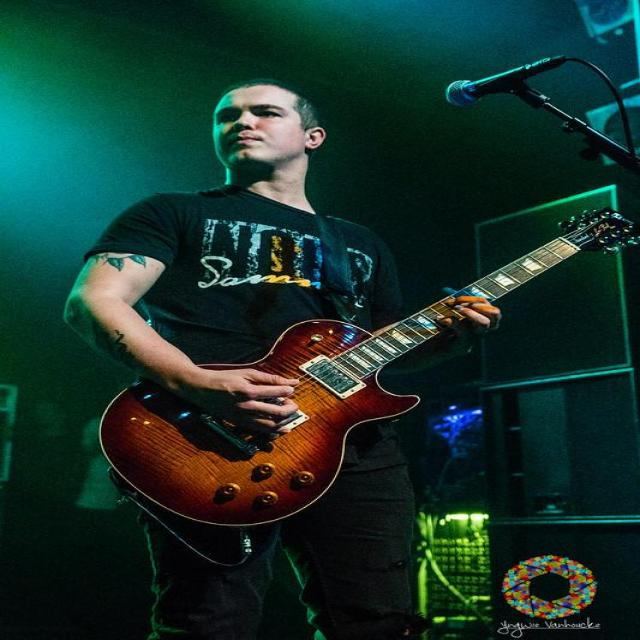guitar: (100, 301, 457, 526)
